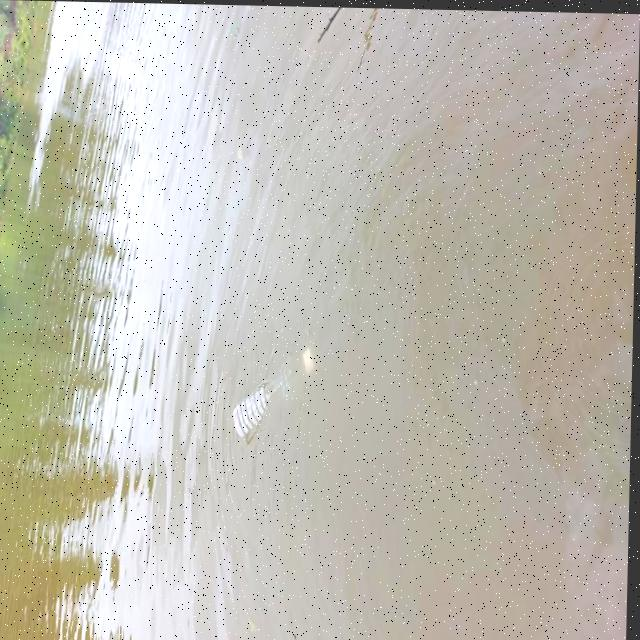waterbottle: (227, 328, 345, 454)
